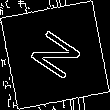N_SE: (22, 24, 88, 86)
